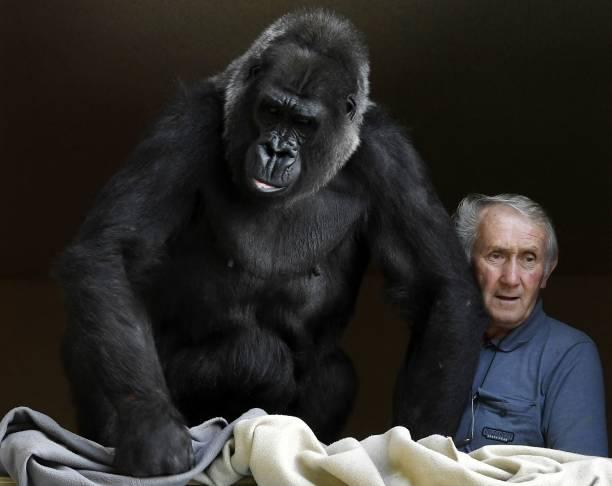gorille_Autres: (74, 0, 437, 441)
